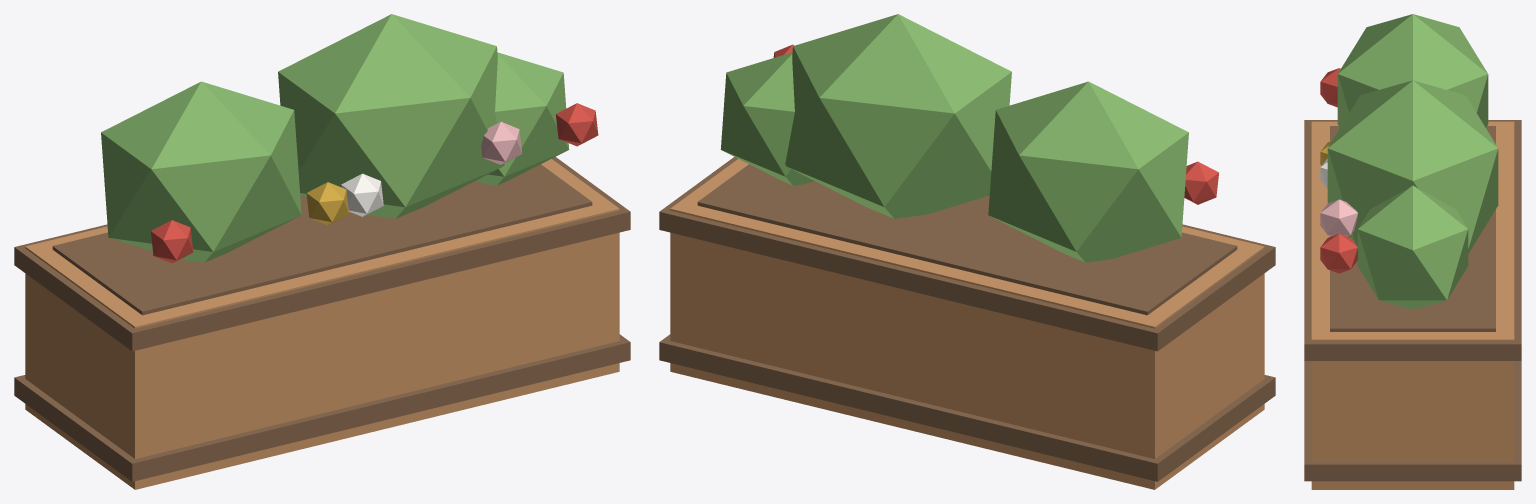
Rendered from planter.glb.
The picture shows the model from 3 angles, left to right: view 1: azimuth 30°, elevation 25°; view 2: azimuth 150°, elevation 25°; view 3: azimuth 270°, elevation 25°; orthographic projection. The views are drawn at different scales.
Parts seen in each view (by area): view 1: planter; view 2: planter; view 3: planter.
Boxes of the visible parts, bbox=[...] form: planter: bbox=[14, 14, 630, 489]; planter: bbox=[659, 14, 1275, 489]; planter: bbox=[1304, 14, 1521, 489].
Bounding box in the file's own units: 1.44 × 0.993 × 0.59.
